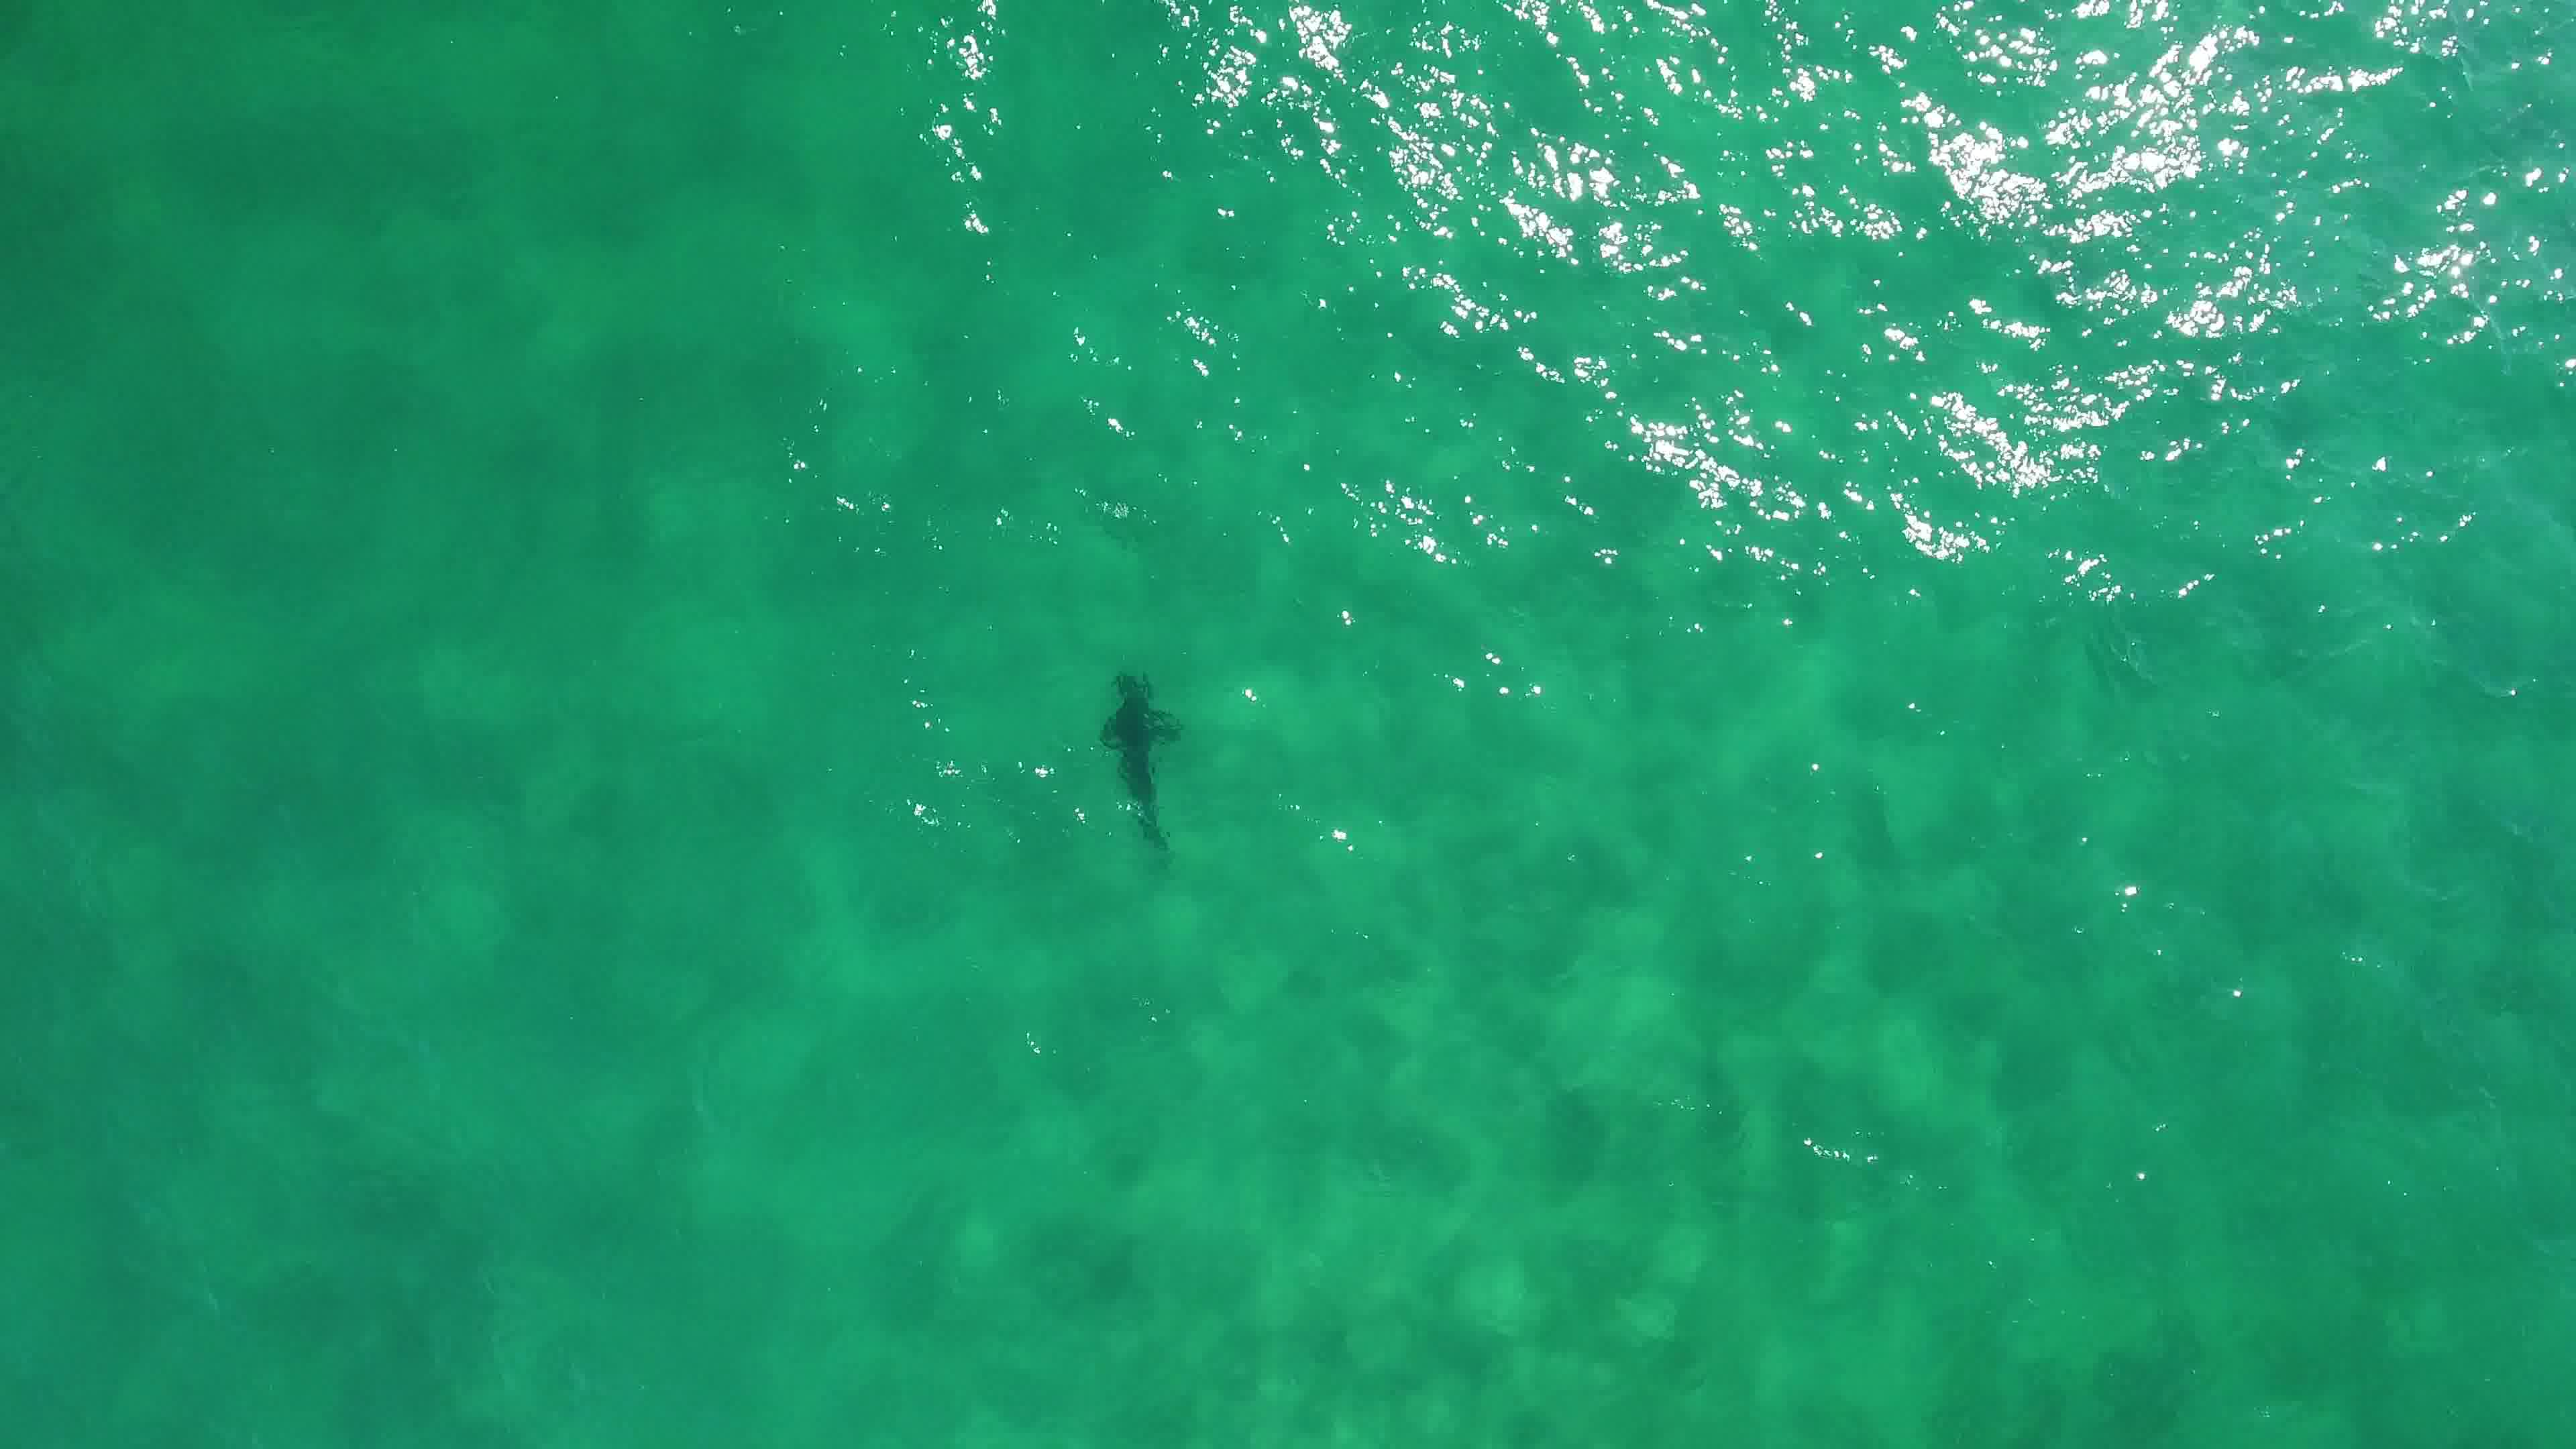shark: (1090, 669, 1185, 858)
